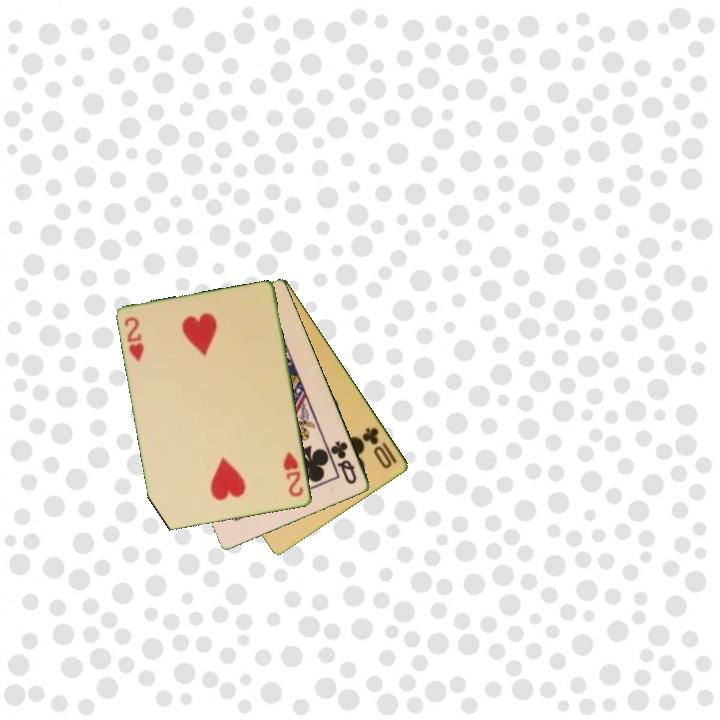10c: (359, 424, 400, 472)
2h: (280, 448, 307, 500), (121, 314, 147, 364)
Qc: (327, 437, 360, 487)
